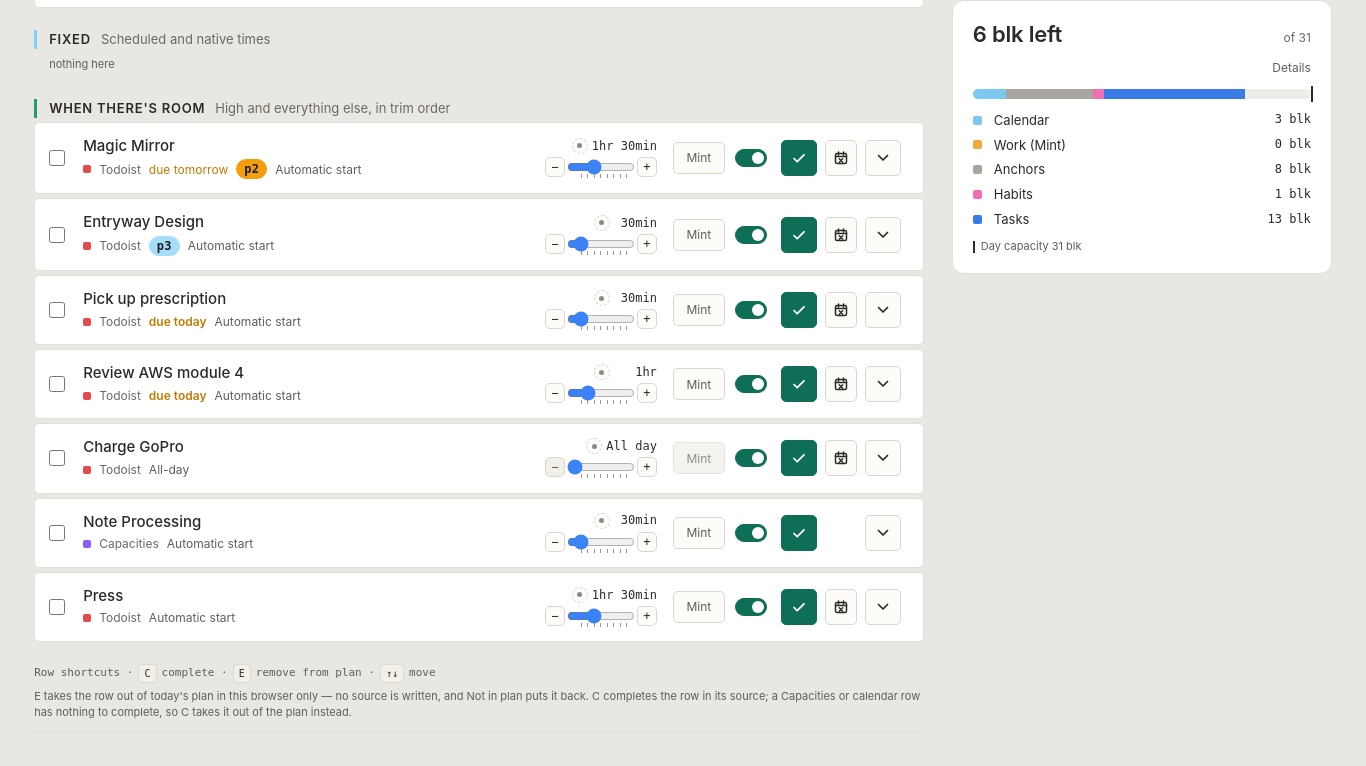
it: exact-minutes field: debounced typing, immediate Enter and blur › rejects unparseable text without changing the row
The image size is (1366, 766).
(page scrolled)
Click the 7th button named "Expand".
click(883, 607)  # box [865, 589, 901, 625]
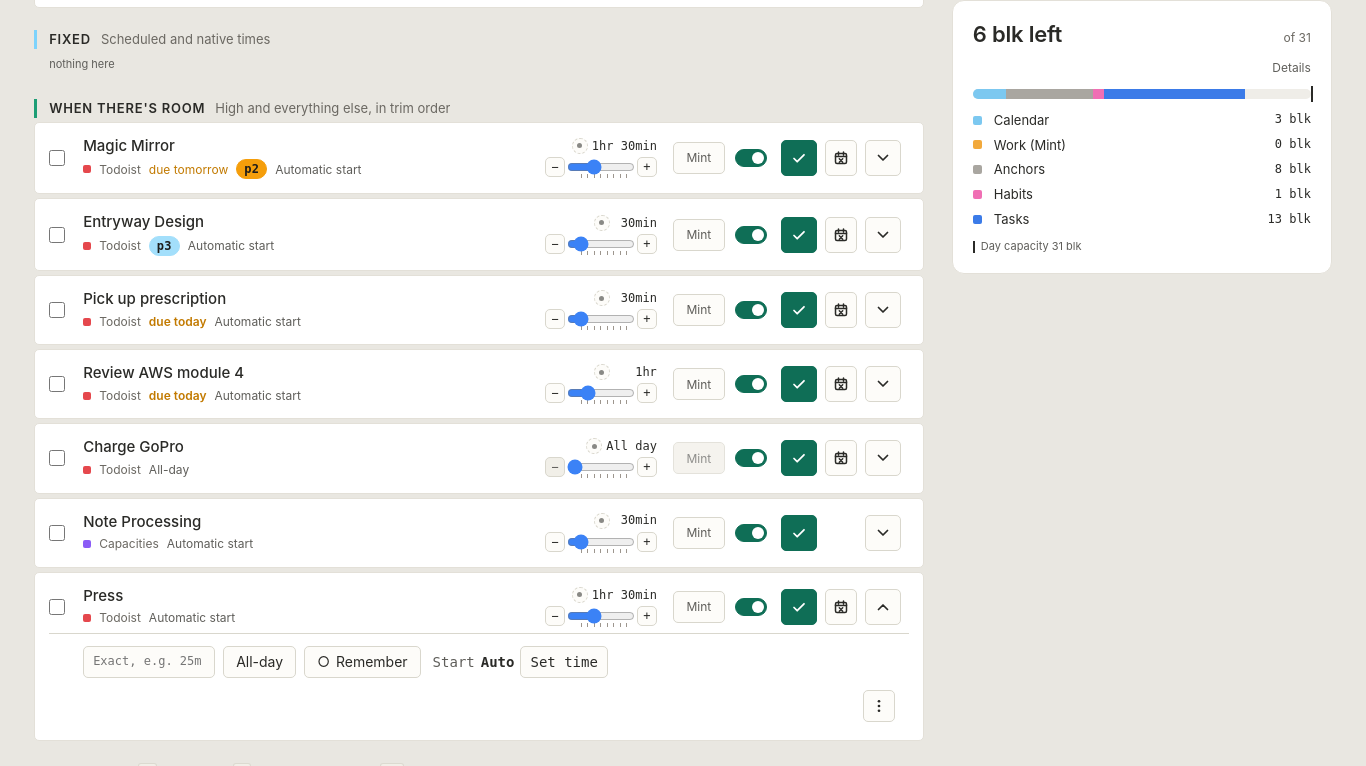
Type "soon" into the field named "Exact minutes".
click(149, 662); type("soon")  # box [83, 646, 215, 678]
Wait 400 ms
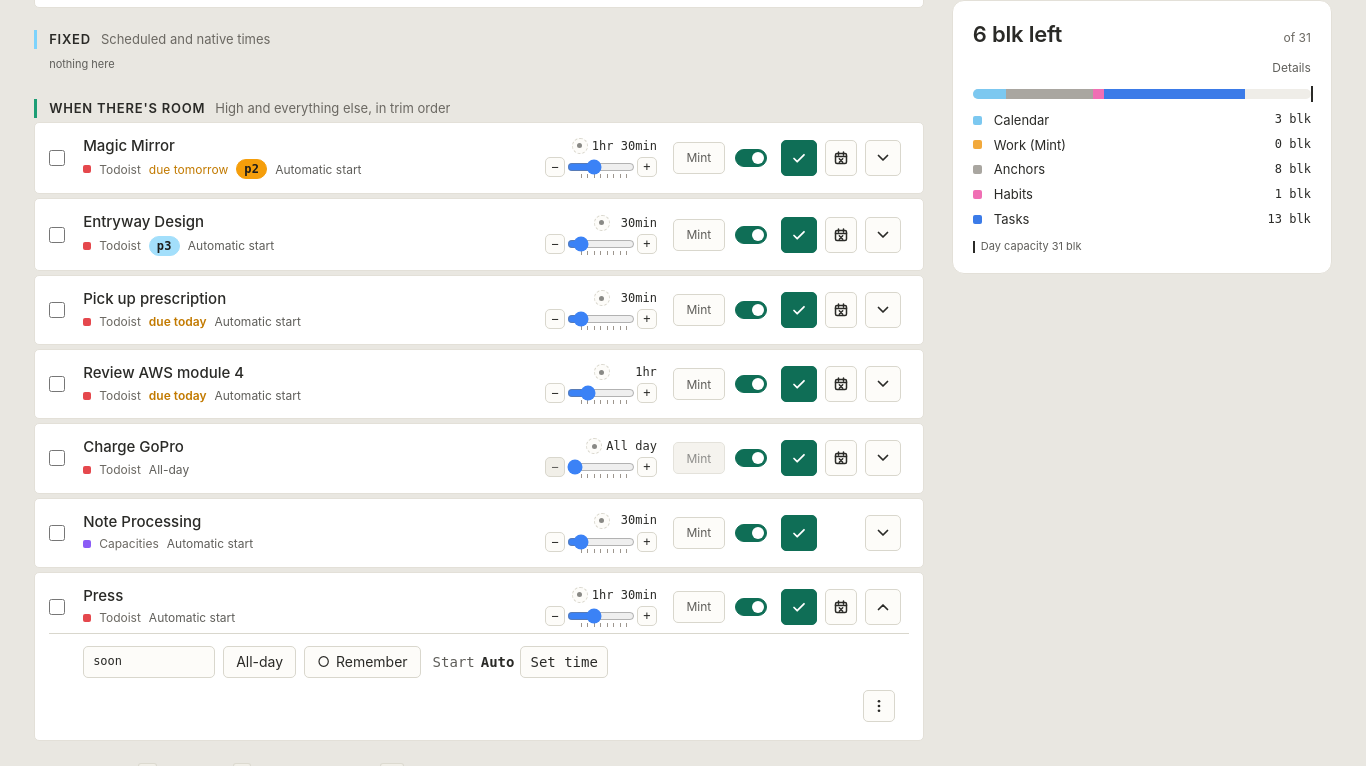
Press Enter in the field named "Exact minutes", box [83, 646, 215, 678]
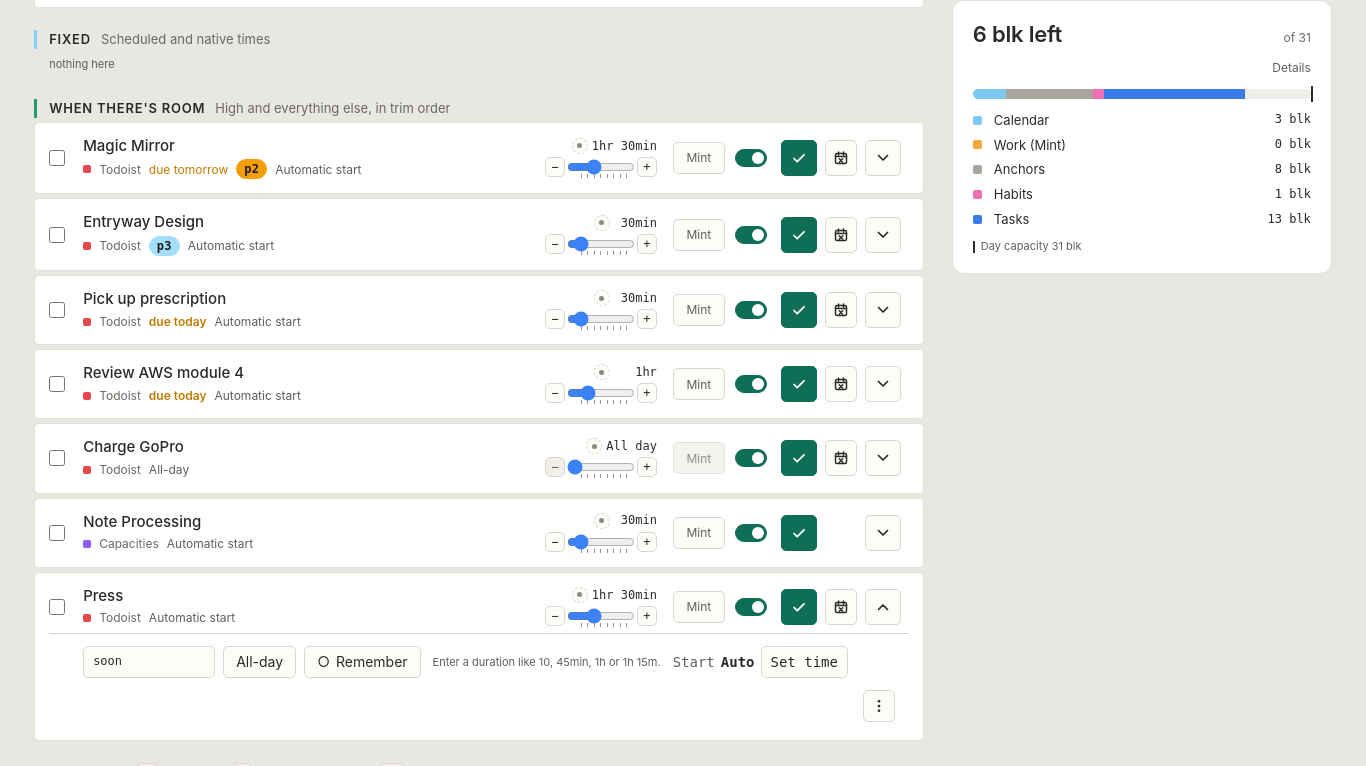
Expected: the message "Enter a duration like 10, 45min, 1h or 1h 15m." is shown, [433, 655, 661, 671]
